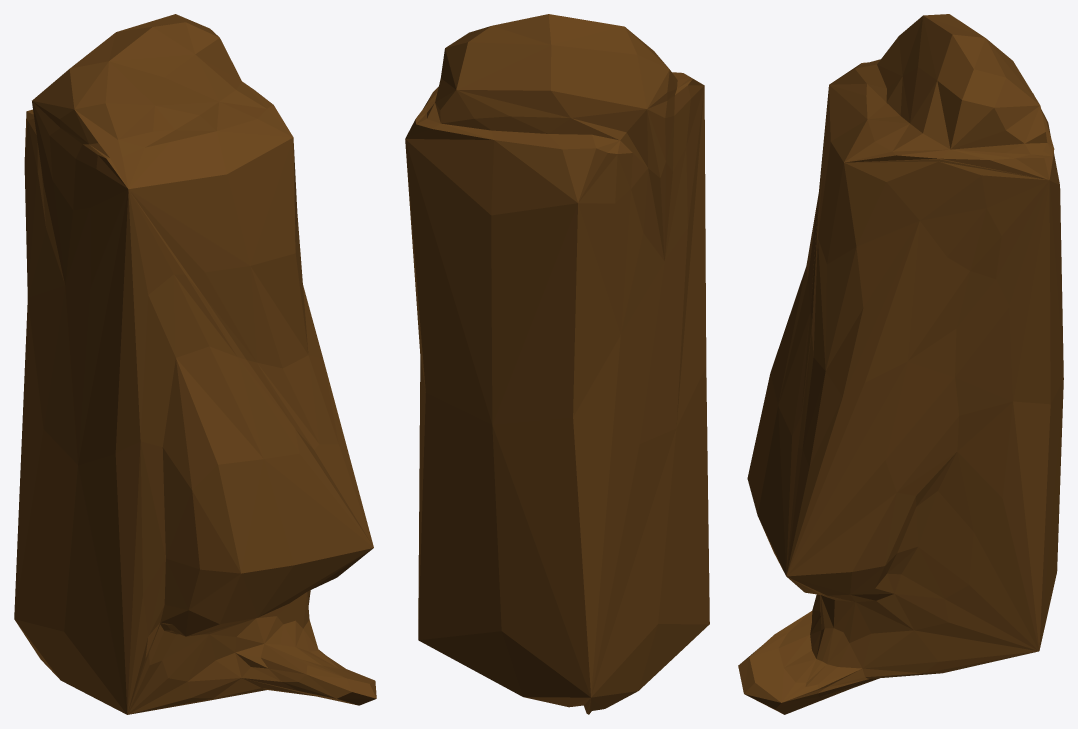
The picture shows the model from 3 angles, left to right: view 1: azimuth 30°, elevation 25°; view 2: azimuth 150°, elevation 25°; view 3: azimuth 270°, elevation 25°; orthographic projection. The views are drawn at different scales.
Parts seen in each view (by area): view 1: 464_Cube.1878; view 2: 464_Cube.1878; view 3: 464_Cube.1878.
Part boxes in pixels (x1=…): 464_Cube.1878: x1=14, y1=14, x2=376, y2=714; 464_Cube.1878: x1=405, y1=14, x2=709, y2=714; 464_Cube.1878: x1=738, y1=14, x2=1063, y2=714.
Bounding box in the file's own units: 5.7 × 14.32 × 6.77.
